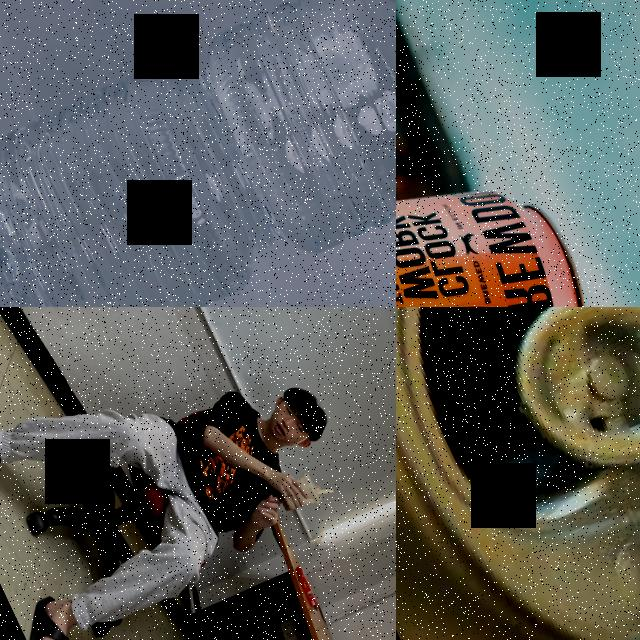bottle: (0, 0, 396, 307)
can: (396, 104, 618, 307)
cup: (274, 470, 323, 518)
